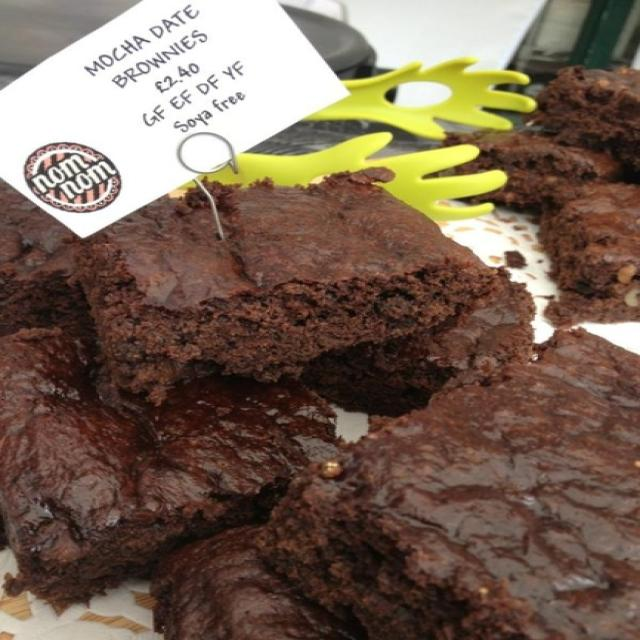蛋糕甜品: (25, 37, 618, 621)
